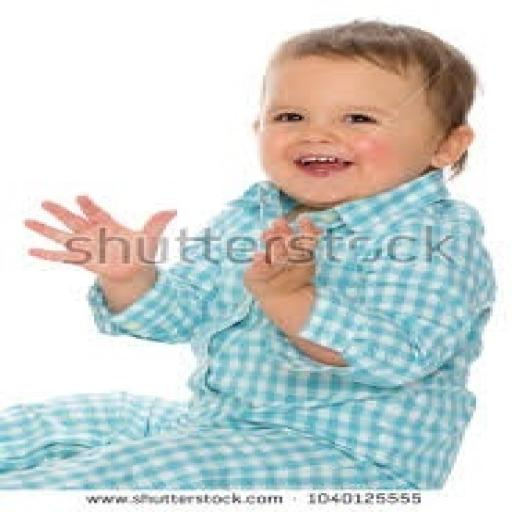clapping: (0, 17, 498, 489)
